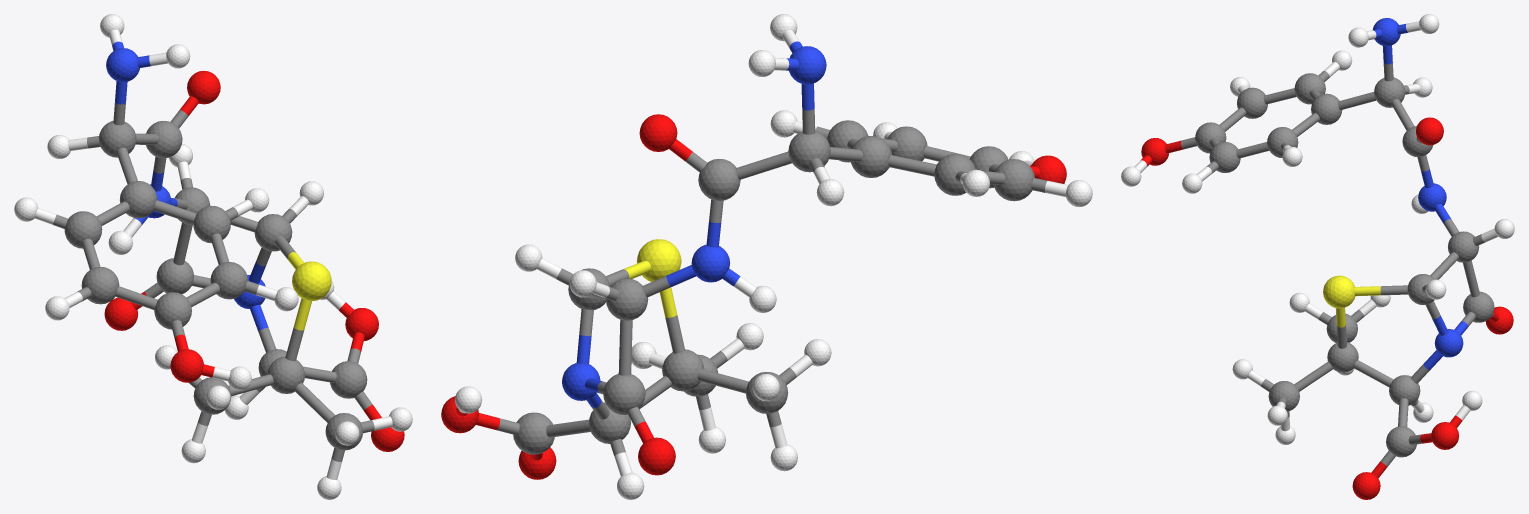
The picture shows the model from 3 angles, left to right: view 1: azimuth 30°, elevation 25°; view 2: azimuth 150°, elevation 25°; view 3: azimuth 270°, elevation 25°; orthographic projection. The views are drawn at different scales.
Parts seen in each view (by area): view 1: Mesh; view 2: Mesh; view 3: Mesh.
Part boxes in pixels (x1=…): Mesh: x1=14, y1=14, x2=412, y2=499; Mesh: x1=441, y1=14, x2=1092, y2=499; Mesh: x1=1121, y1=14, x2=1514, y2=499.
Bounding box in the file's own units: 94.09 × 92.44 × 85.16.
